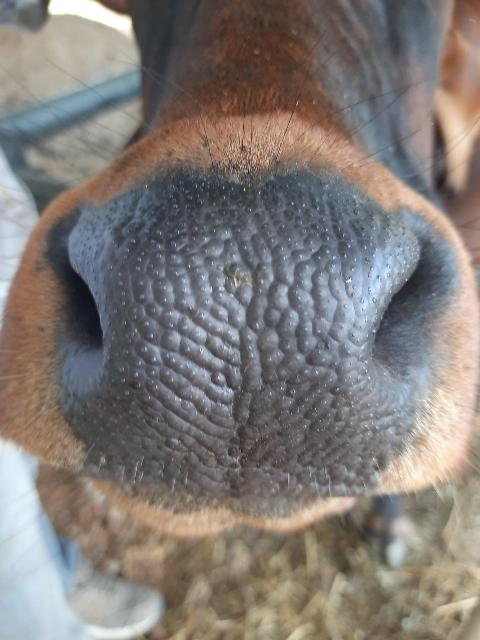Muzzle: (100, 210, 382, 470)
